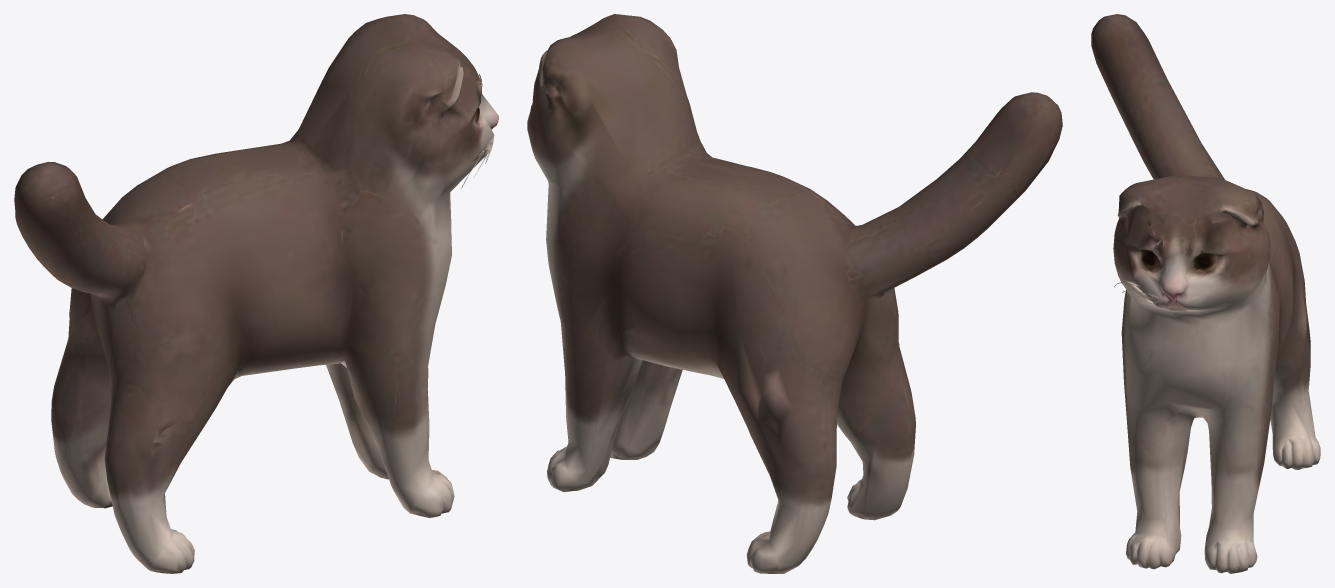
The model's file is LALEO-lo.glb.
3 renders of one model, left to right at view 1: azimuth 30°, elevation 25°; view 2: azimuth 150°, elevation 25°; view 3: azimuth 270°, elevation 25°, orthographic. The views are drawn at different scales.
Visible parts, largest first — view 1: material; view 2: material; view 3: material.
Part boxes in pixels (<box>): material: <box>14,14,498,573</box>; material: <box>527,14,1062,573</box>; material: <box>1091,14,1320,573</box>.
Bounding box in the file's own units: 1.17 × 0.9986 × 0.5425.
1 material, 1 textured.
